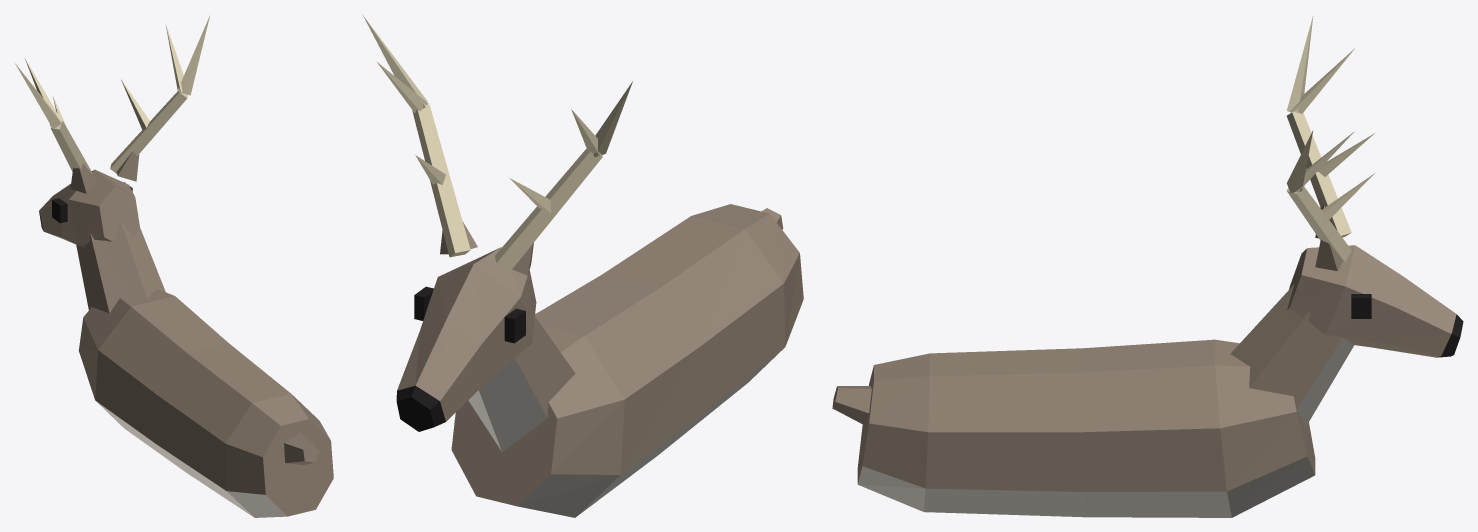
Rendered from animal_caribou.obj.
3 renders of one model, left to right at view 1: azimuth 30°, elevation 25°; view 2: azimuth 150°, elevation 25°; view 3: azimuth 270°, elevation 25°, orthographic. The views are drawn at different scales.
Visible parts, largest first — view 1: animal_caribou; view 2: animal_caribou; view 3: animal_caribou.
Part boxes in pixels (x1,y1,x2,y2): animal_caribou: [14, 16, 333, 517]; animal_caribou: [363, 15, 803, 517]; animal_caribou: [832, 15, 1463, 517].
Size of the model in its own units: 0.6752 by 1.18 by 1.56.
